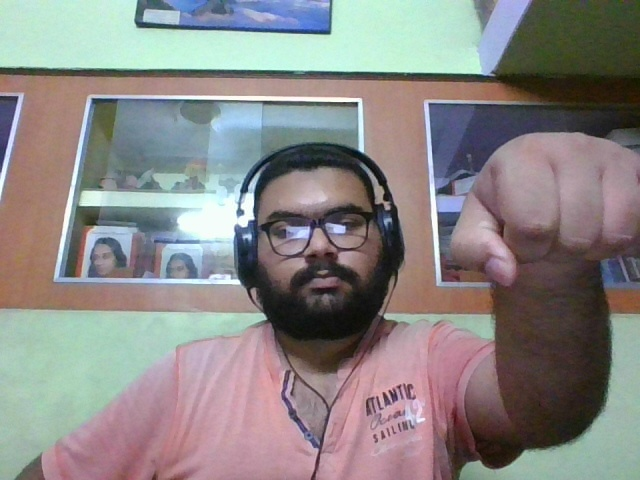yes: (447, 132, 640, 289)
